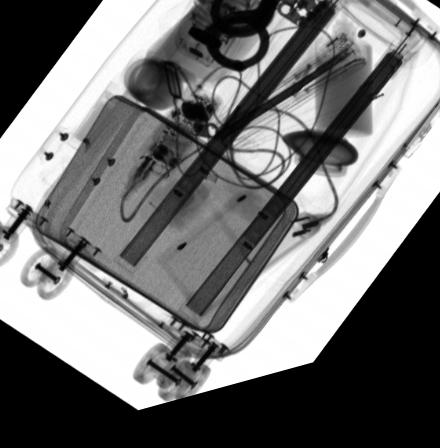HandCuffs: (185, 0, 291, 86)
